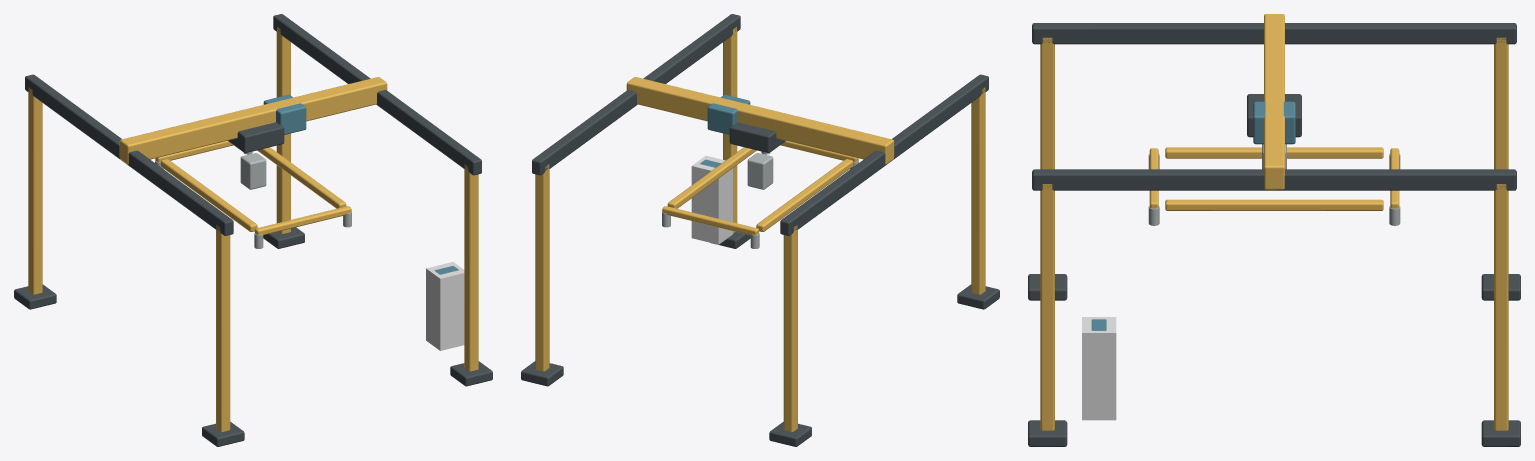
The model's file is Station_ModuleGantry.fbx.
3 views of the same model, side by side, from view 1: azimuth 30°, elevation 25°; view 2: azimuth 150°, elevation 25°; view 3: azimuth 270°, elevation 25° (orthographic). The views are drawn at different scales.
Visible parts, largest first — view 1: ANIM_Bridge, Travel rail, Travel rail.001, COL_ControlPanel, Gantry column.002, Gantry column, Gantry column.001, Gantry column.003, Lift spreader, ANIM_Trolley, Lift spreader.001, Motor cover (+7 smaller); view 2: ANIM_Bridge, Travel rail, Travel rail.001, Gantry column.003, Gantry column.001, Gantry column, COL_ControlPanel, Gantry column.002, Lift spreader, ANIM_Trolley, Lift spreader.001, Motor cover (+6 smaller); view 3: Travel rail.001, Travel rail, Gantry column.002, Gantry column.003, ANIM_Bridge, COL_ControlPanel, Lift spreader.001, Lift spreader, Gantry column.001, Gantry column, Motor cover, Gantry foot.002 (+4 smaller).
Part boxes in pixels (x1,y1,x2,y2): ANIM_Bridge: (119, 77, 387, 164); Travel rail: (25, 74, 233, 235); Travel rail.001: (273, 14, 481, 175); COL_ControlPanel: (426, 262, 464, 350); Gantry column.002: (464, 164, 478, 371); Gantry column: (216, 225, 230, 431); Gantry column.001: (28, 87, 42, 294); Gantry column.003: (276, 27, 290, 233); Lift spreader: (160, 159, 257, 231); ANIM_Trolley: (228, 122, 284, 152); Lift spreader.001: (257, 147, 346, 208); Motor cover: (263, 94, 306, 134); ANIM_Bridge: (626, 77, 894, 164); Travel rail: (780, 74, 988, 235); Travel rail.001: (532, 14, 740, 175); Gantry column.003: (535, 164, 549, 371); Gantry column.001: (783, 225, 797, 431); Gantry column: (971, 87, 985, 294); COL_ControlPanel: (691, 155, 732, 244); Gantry column.002: (723, 27, 737, 233); Lift spreader: (756, 159, 853, 231); ANIM_Trolley: (729, 122, 785, 152); Lift spreader.001: (667, 147, 756, 208); Motor cover: (707, 94, 750, 134); Travel rail.001: (1032, 169, 1516, 190); Travel rail: (1032, 23, 1516, 44); Gantry column.002: (1040, 184, 1054, 430); Gantry column.003: (1494, 184, 1508, 430); ANIM_Bridge: (1264, 14, 1284, 189); COL_ControlPanel: (1082, 317, 1116, 420); Lift spreader.001: (1165, 199, 1383, 210); Lift spreader: (1165, 147, 1383, 158); Gantry column.001: (1494, 37, 1508, 169); Gantry column: (1040, 37, 1054, 169); Motor cover: (1253, 101, 1295, 144); Gantry foot.002: (1028, 420, 1067, 446).
Bounding box in the file's own units: 5.61 × 4.44 × 7.17.
